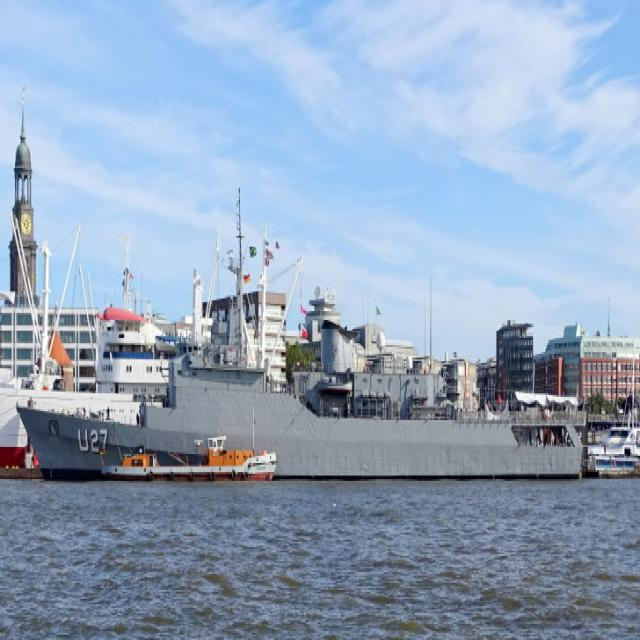Fragata: (14, 189, 591, 486)
